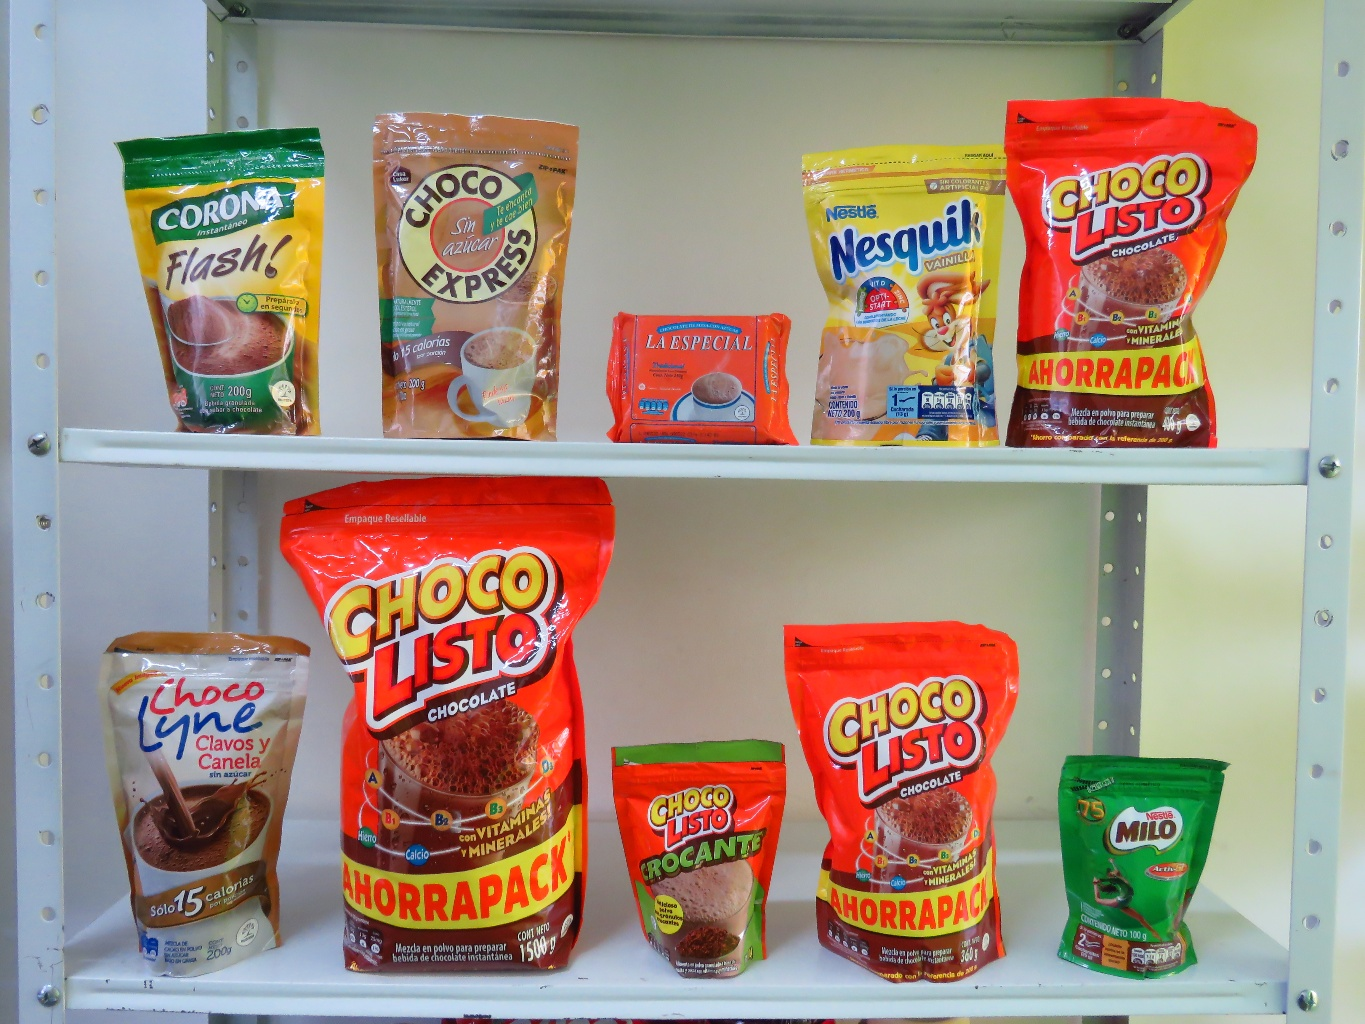COL0170102DYP10000: (584, 721, 826, 983)
COL0170103DYP1,500: (255, 467, 627, 990)
COL0170103DYP36000: (780, 613, 1035, 989)
COL0170103DYP40000: (990, 79, 1272, 464)
COL0170203DYP10000: (1042, 743, 1222, 991)
COL0170306DYP20000: (780, 137, 1027, 456)
